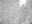person: (20, 1, 26, 9)
